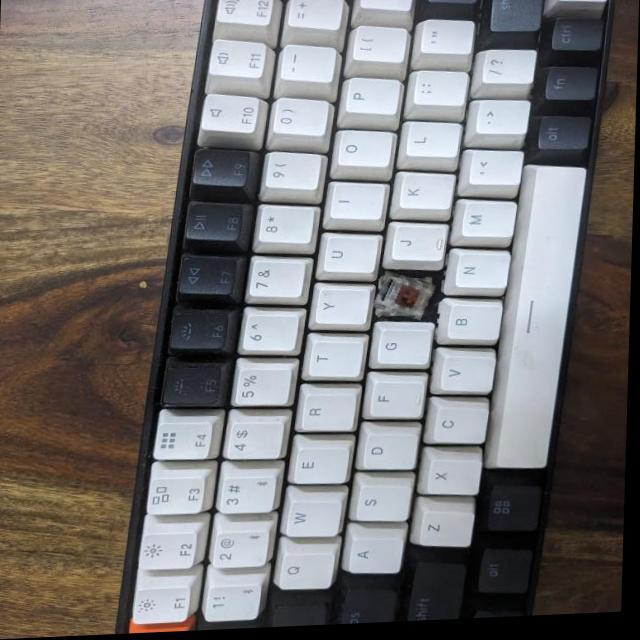key-switch: (376, 276, 440, 324)
